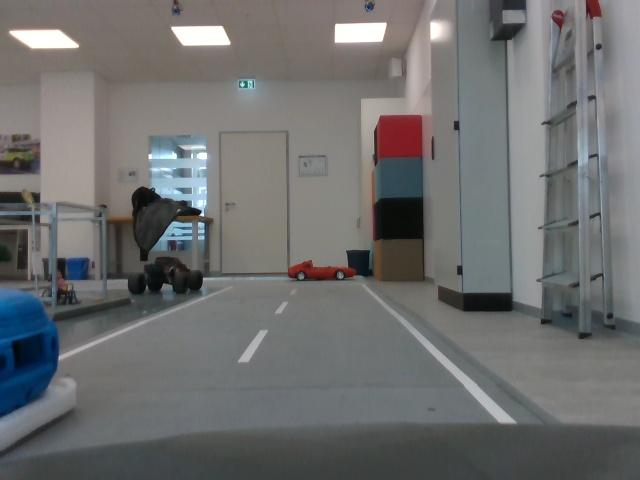car: (1, 269, 89, 427), (128, 256, 207, 302), (288, 261, 358, 280)
person: (39, 264, 87, 306)
